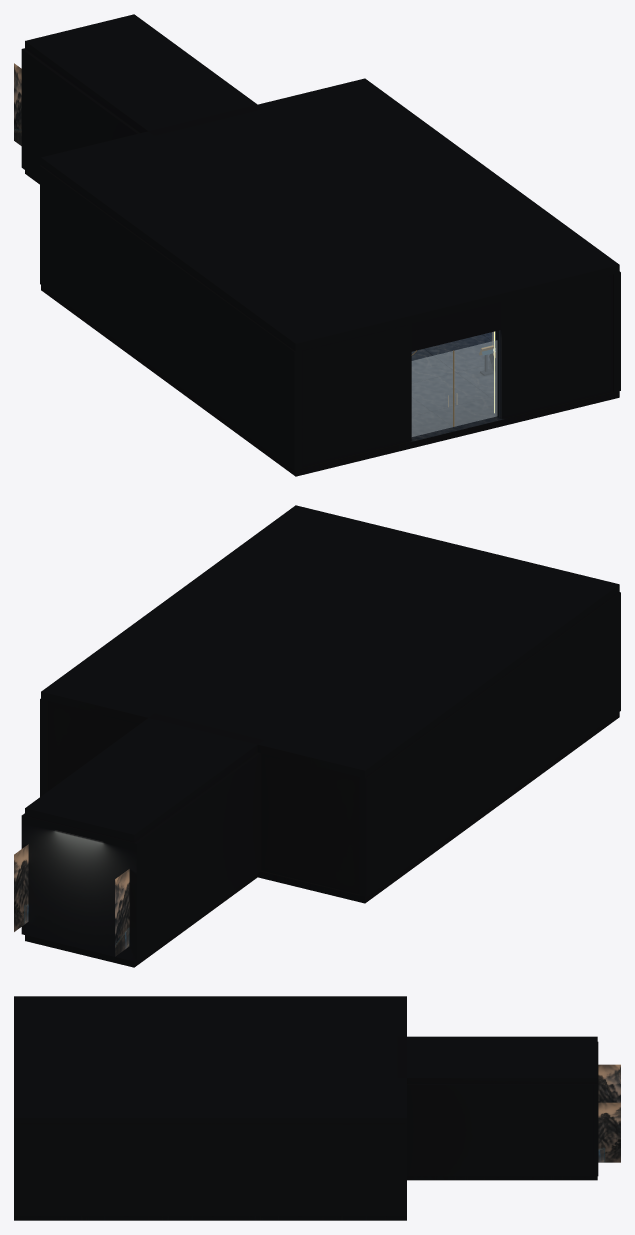
File: museum_R12.glb
The picture shows the model from 3 angles, top to bottom: view 1: azimuth 30°, elevation 25°; view 2: azimuth 150°, elevation 25°; view 3: azimuth 270°, elevation 25°; orthographic projection. The views are drawn at different scales.
Parts seen in each view (by area): view 1: R12_Baked_Architecture, Web_R12_Sliding glass door Right, Web_R12_Sliding glass door Left; view 2: R12_Baked_Architecture; view 3: R12_Baked_Architecture.
Boxes of the visible parts, x1,y1,x2,y2 form: R12_Baked_Architecture: (14,14,620,476); Web_R12_Sliding glass door Right: (454,340,497,426); Web_R12_Sliding glass door Left: (412,351,452,436); R12_Baked_Architecture: (14,505,620,967); R12_Baked_Architecture: (14,996,620,1220).
Bounding box in the file's own units: 16.72 × 6.5 × 34.9.
10 materials, 2 textured.
